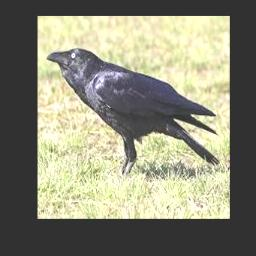Crow: (47, 48, 219, 178)
